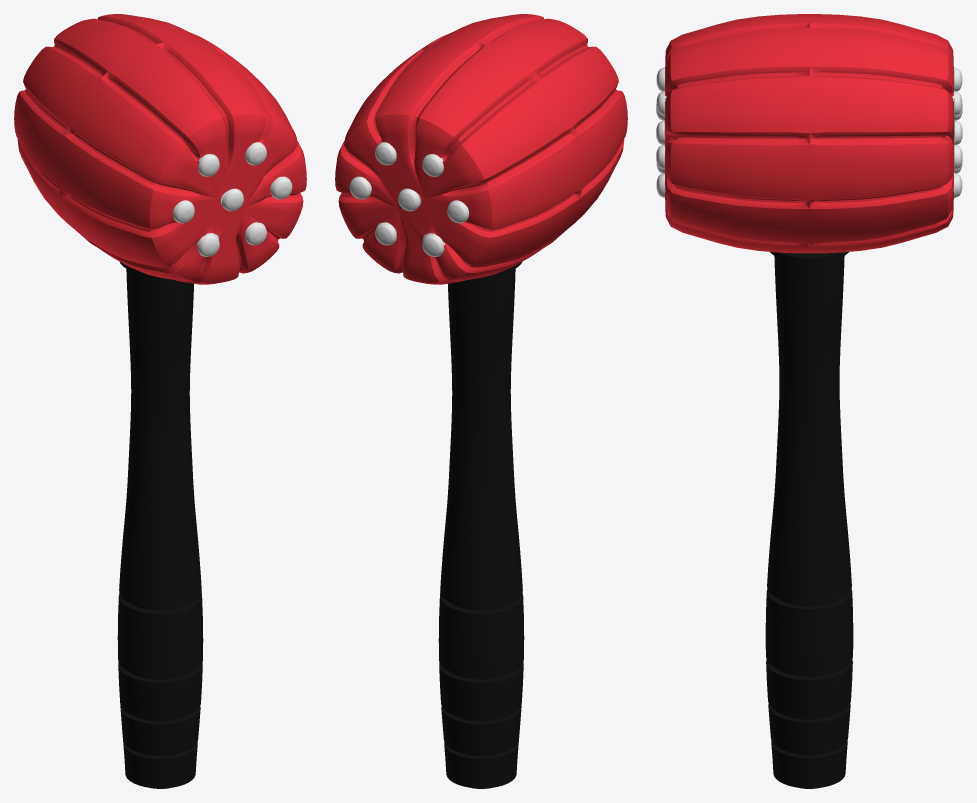
File: Hammer.fbx
3 views of the same model, side by side, from view 1: azimuth 30°, elevation 25°; view 2: azimuth 150°, elevation 25°; view 3: azimuth 270°, elevation 25° (orthographic). The views are drawn at different scales.
Visible parts, largest first — view 1: Cylinder; view 2: Cylinder; view 3: Cylinder.
Part boxes in pixels (x1,y1,x2,y2): Cylinder: (14, 14, 306, 788); Cylinder: (335, 14, 627, 788); Cylinder: (656, 14, 962, 788).
Size of the model in its own units: 387 by 1345 by 496.
